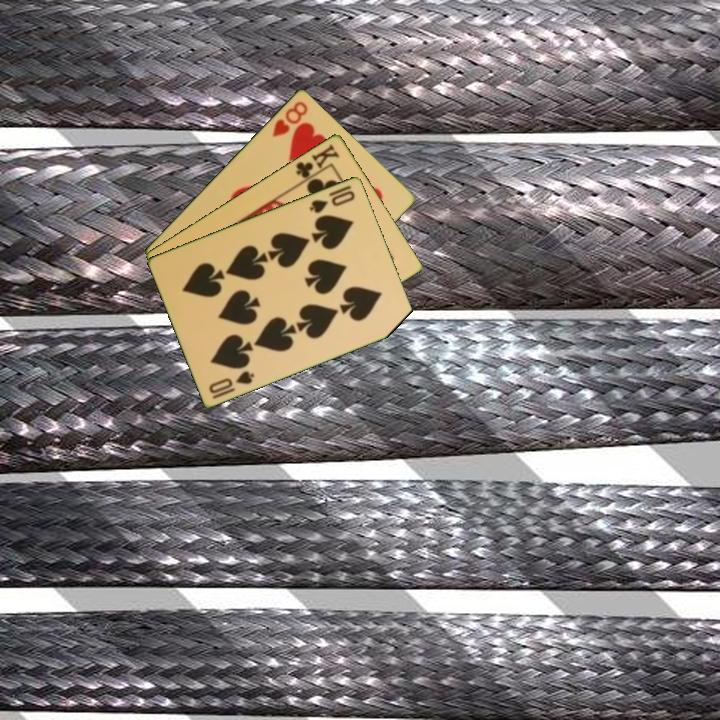10s: (205, 367, 258, 401), (306, 187, 358, 216)
8h: (268, 97, 311, 140)
Kc: (292, 140, 342, 186)
